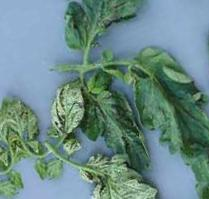Tomato leaf bacterial spot: (110, 29, 209, 187), (56, 0, 165, 56), (78, 139, 163, 199), (32, 76, 98, 145)
